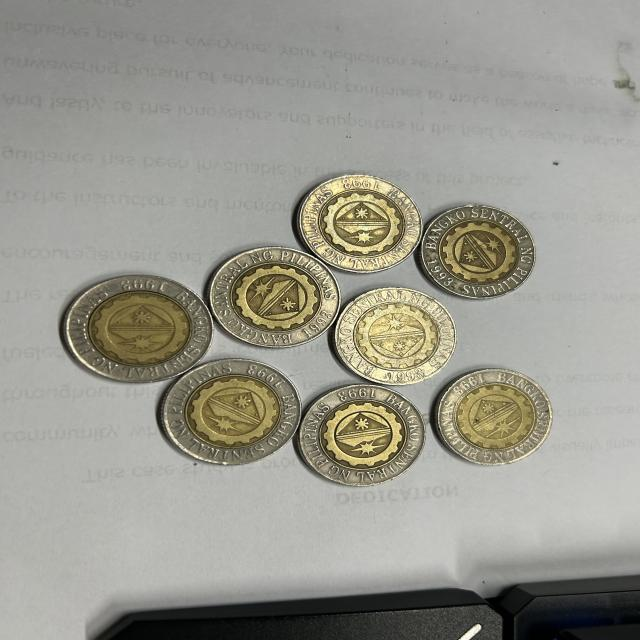10_Old_Back: (71, 277, 205, 379), (166, 352, 296, 456), (301, 172, 418, 268), (218, 240, 341, 331), (418, 200, 530, 297), (307, 386, 414, 481), (342, 282, 441, 373), (445, 373, 548, 454)
